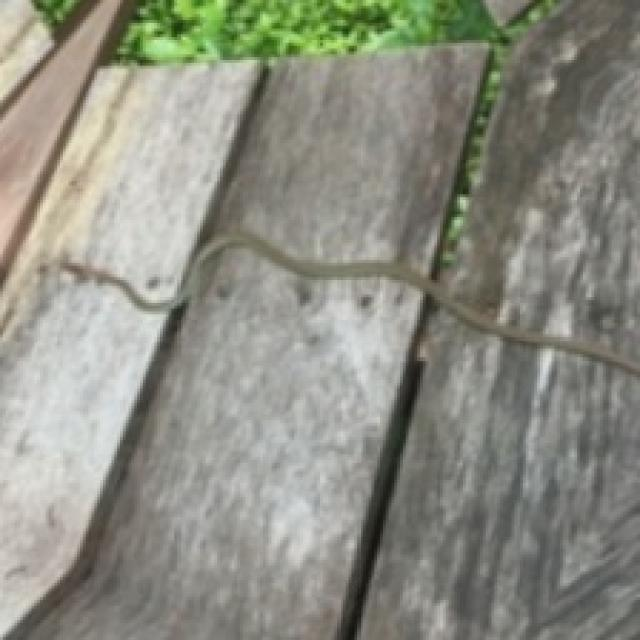paradise tree snake: (60, 229, 637, 374)
